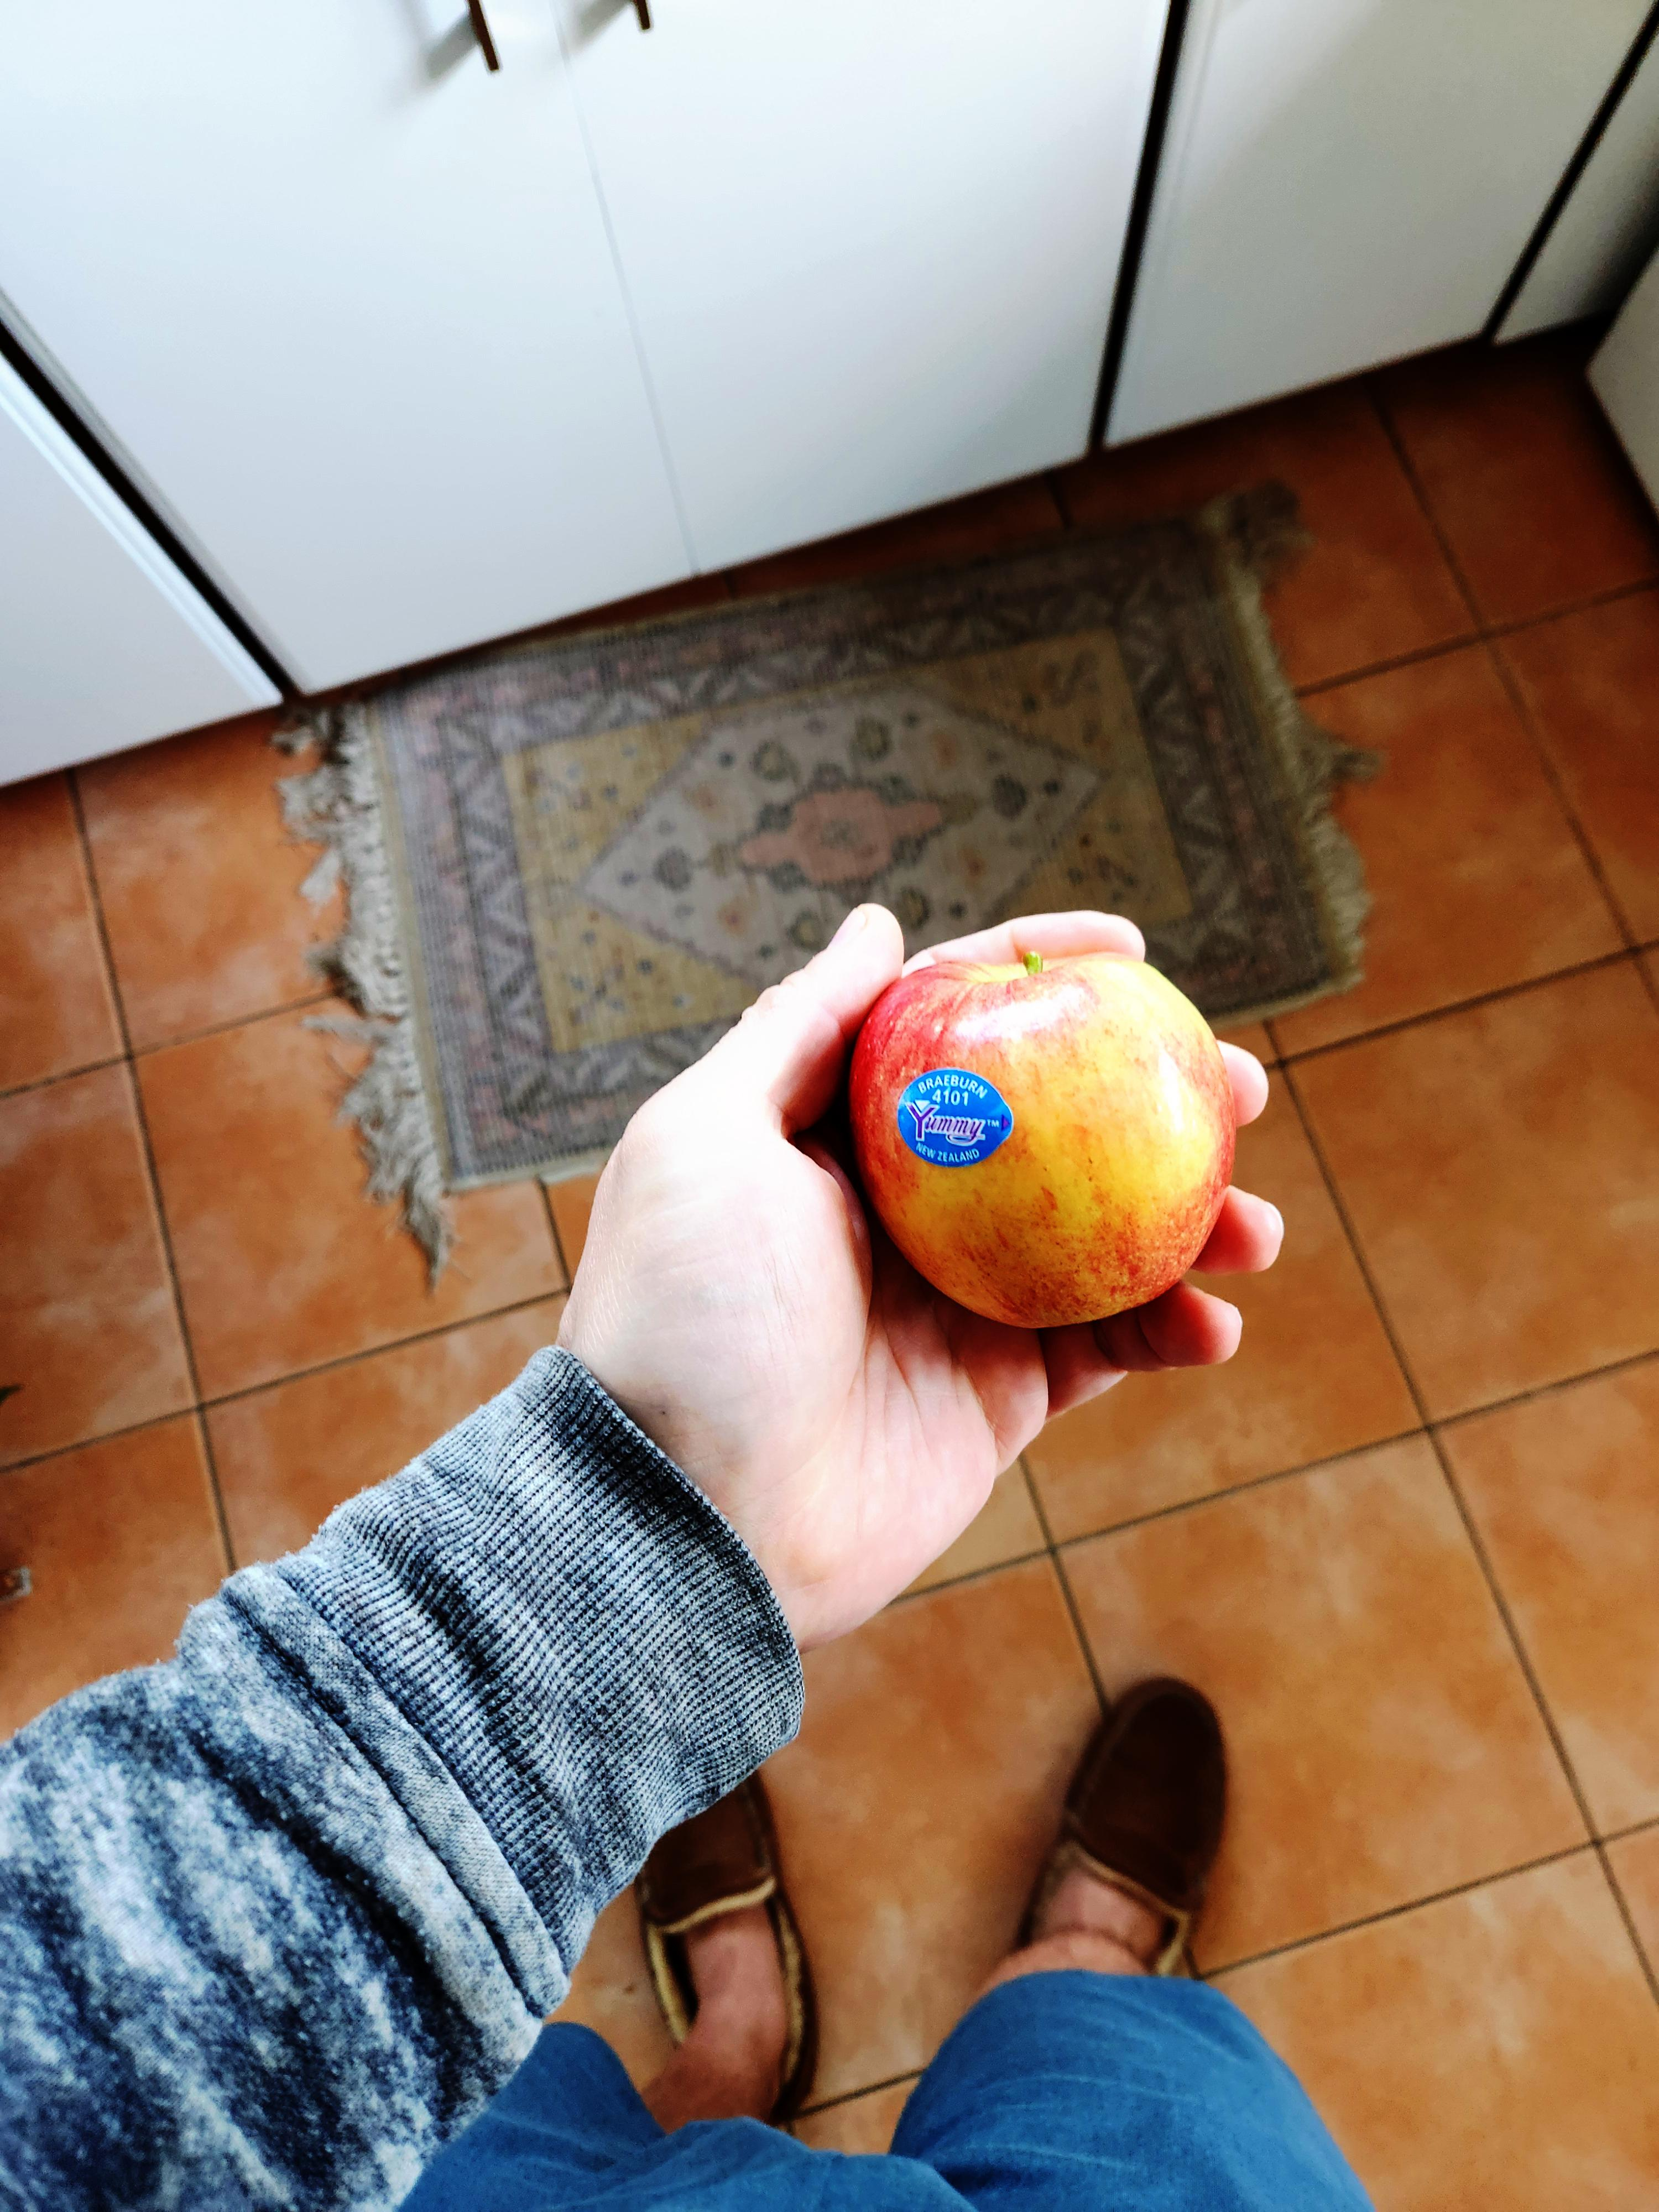apple: (631, 1254, 929, 1780)
